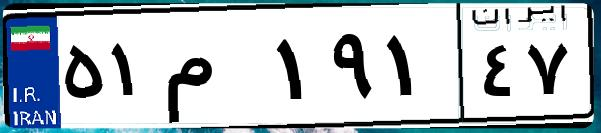1: (270, 28, 330, 110), (385, 28, 445, 110), (110, 28, 158, 98)
4: (475, 38, 525, 113)
5: (57, 26, 110, 100)
7: (525, 38, 570, 115)
9: (330, 28, 385, 110)
م: (158, 20, 270, 120)
